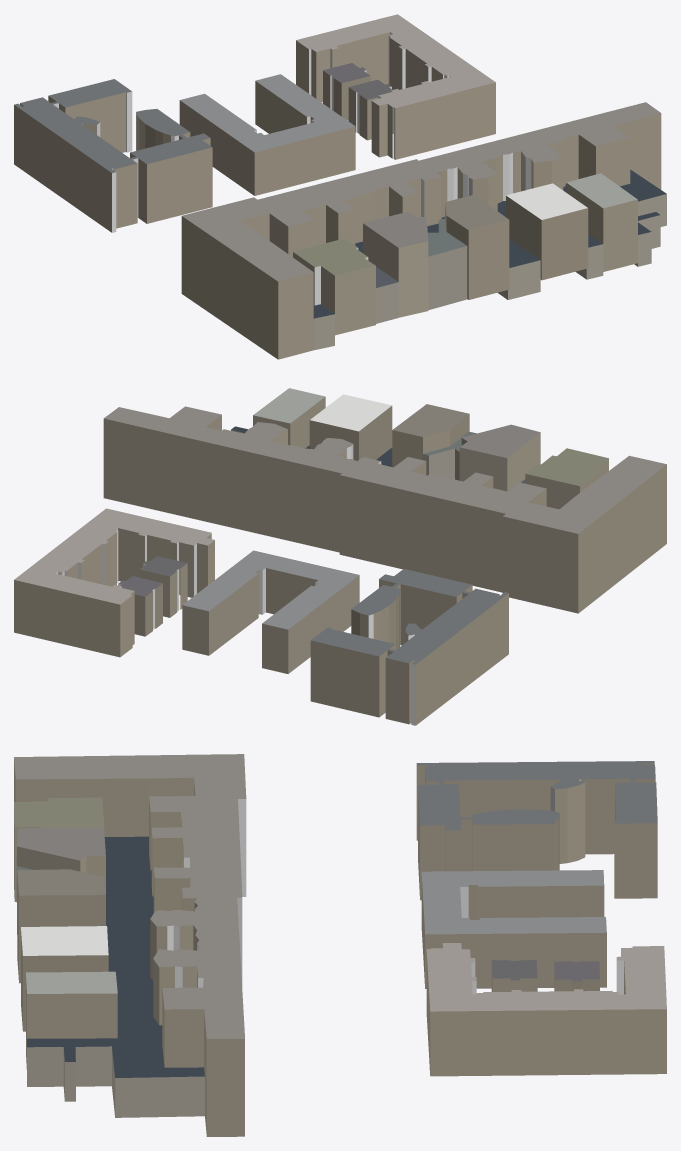
3 views of the same model, one above another, from view 1: azimuth 30°, elevation 25°; view 2: azimuth 150°, elevation 25°; view 3: azimuth 270°, elevation 25° (orthographic). The views are drawn at different scales.
Parts seen in each view (by area): view 1: tuile; view 2: tuile; view 3: tuile.
Boxes of the visible parts, x1,y1,x2,y2 form: tuile: (14,14,666,359); tuile: (14,388,666,725); tuile: (14,754,666,1136).
Size of the model in its own units: 229 by 37.98 by 220.
